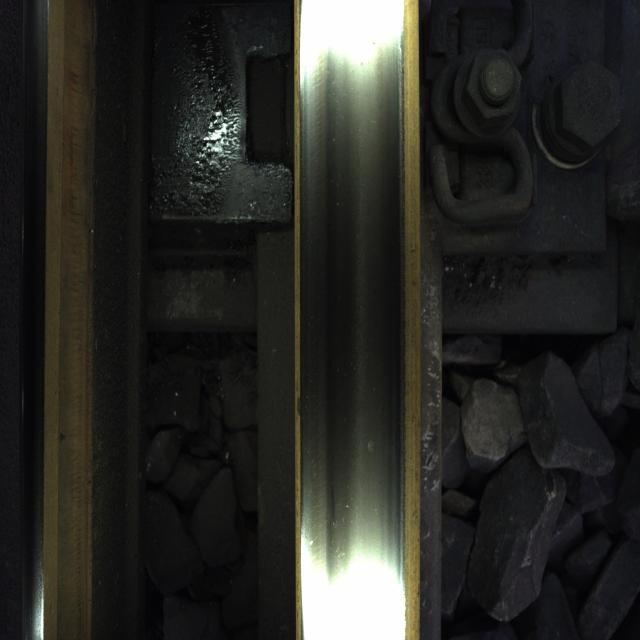break: (311, 46, 394, 625)
